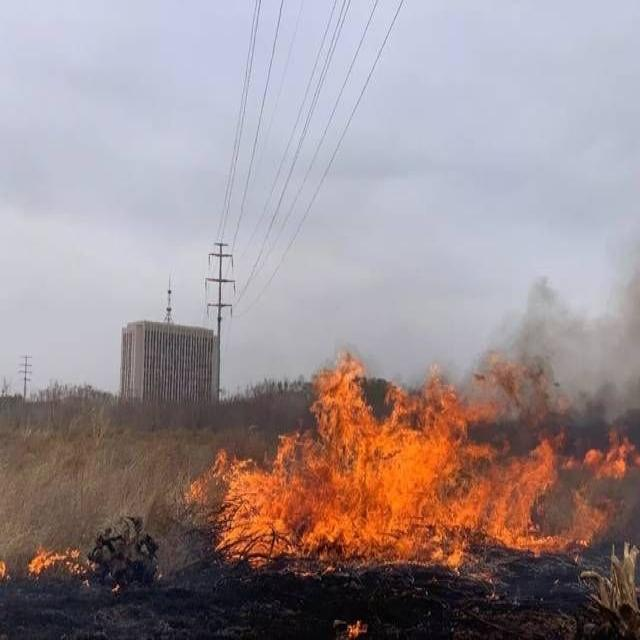Fire: (181, 351, 640, 578), (26, 541, 97, 587), (337, 617, 368, 640), (1, 558, 7, 580)
Smoke: (454, 268, 640, 456)
